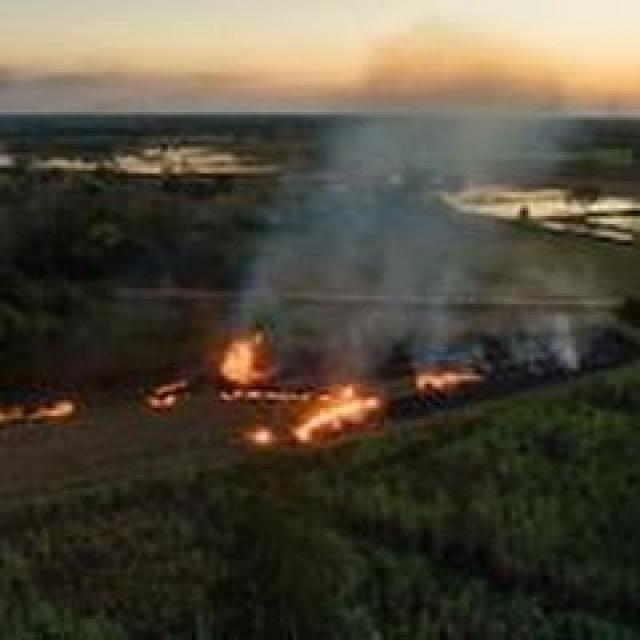Fire: (223, 337, 484, 437)
Smoke: (253, 48, 602, 360)
